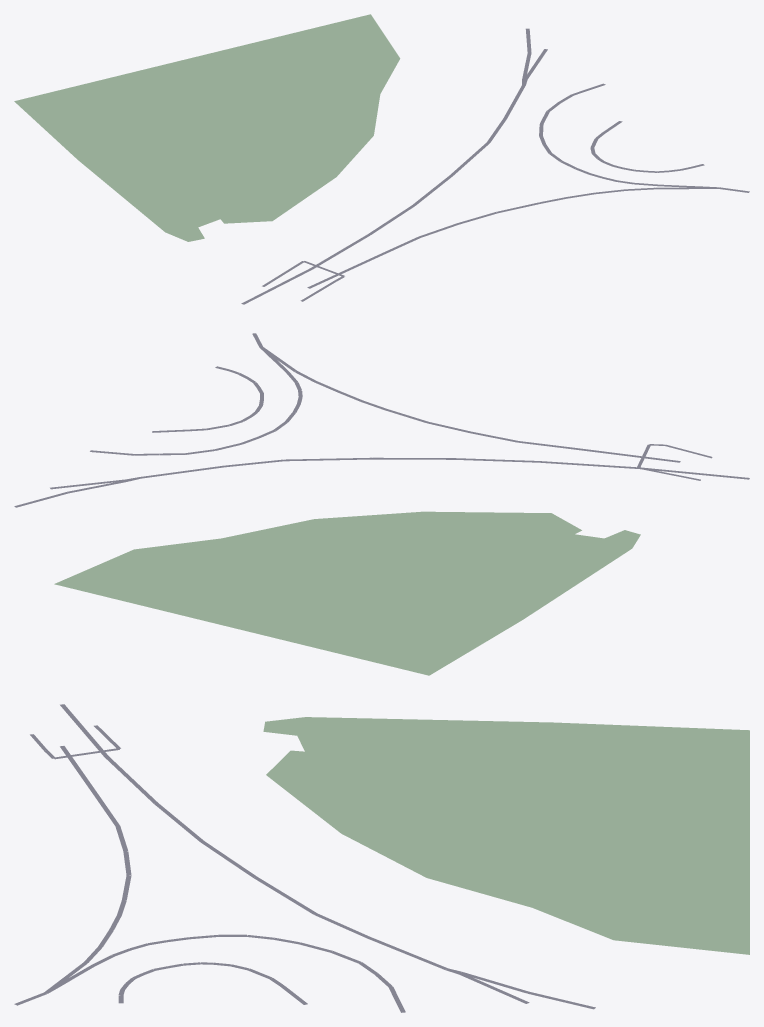
File: 93_108_mid.glb
3 renders of one model, top to bottom at view 1: azimuth 30°, elevation 25°; view 2: azimuth 150°, elevation 25°; view 3: azimuth 270°, elevation 25°, orthographic. The views are drawn at different scales.
Size of the model in its own units: 511 by 7.85 by 510.
